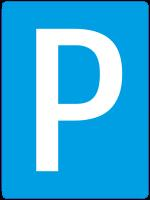Parking Lot Cars: (19, 8, 131, 188)
